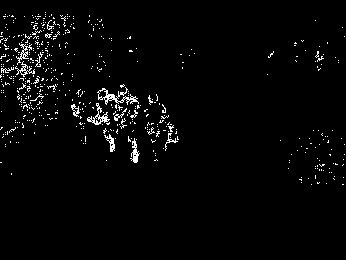person: (142, 93, 179, 163), (114, 84, 140, 164), (92, 88, 116, 153)
